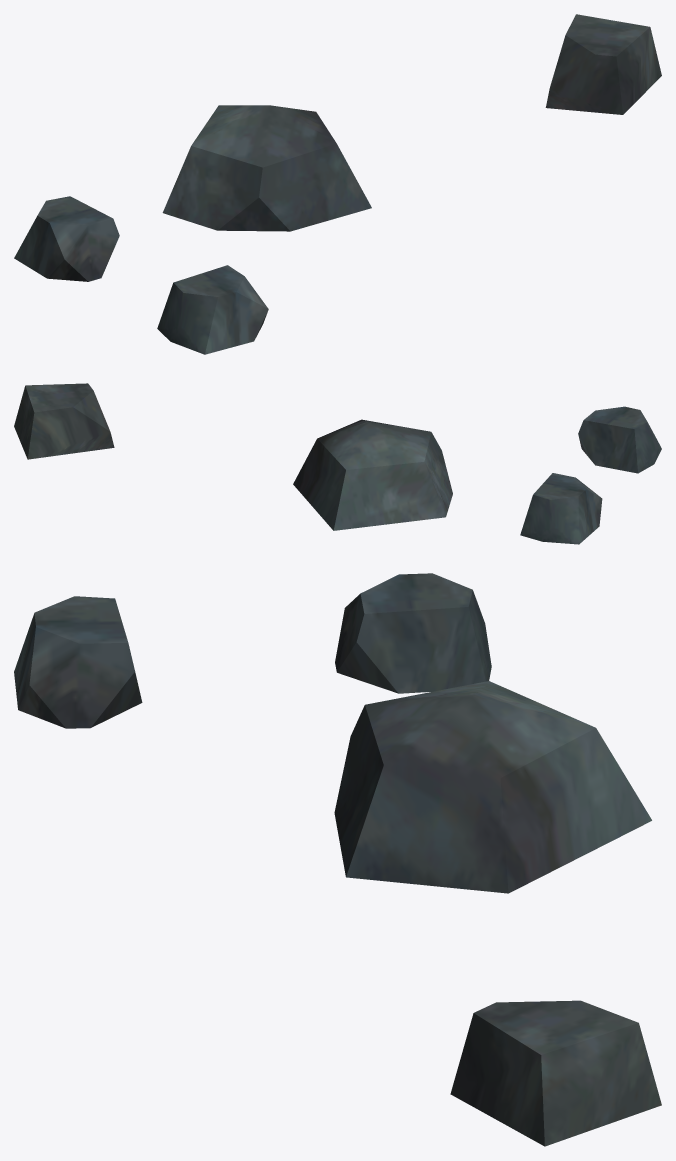
File: object_rubble13.fbx
The picture shows the model from 3 angles, top to bottom: view 1: azimuth 30°, elevation 25°; view 2: azimuth 150°, elevation 25°; view 3: azimuth 270°, elevation 25°; orthographic projection. The views are drawn at different scales.
Parts seen in each view (by area): view 1: Material_#238683587/cliffside; view 2: Material_#238683587/cliffside; view 3: Material_#238683587/cliffside.
Part boxes in pixels (left/top/right/bottom): Material_#238683587/cliffside: left=14, top=14, right=661, bottom=354; Material_#238683587/cliffside: left=14, top=383, right=661, bottom=544; Material_#238683587/cliffside: left=14, top=573, right=661, bottom=1146.
Bounding box in the file's own units: 2.49 × 0.3136 × 1.34.
